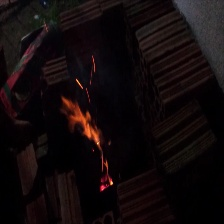fire: (62, 93, 120, 191)
